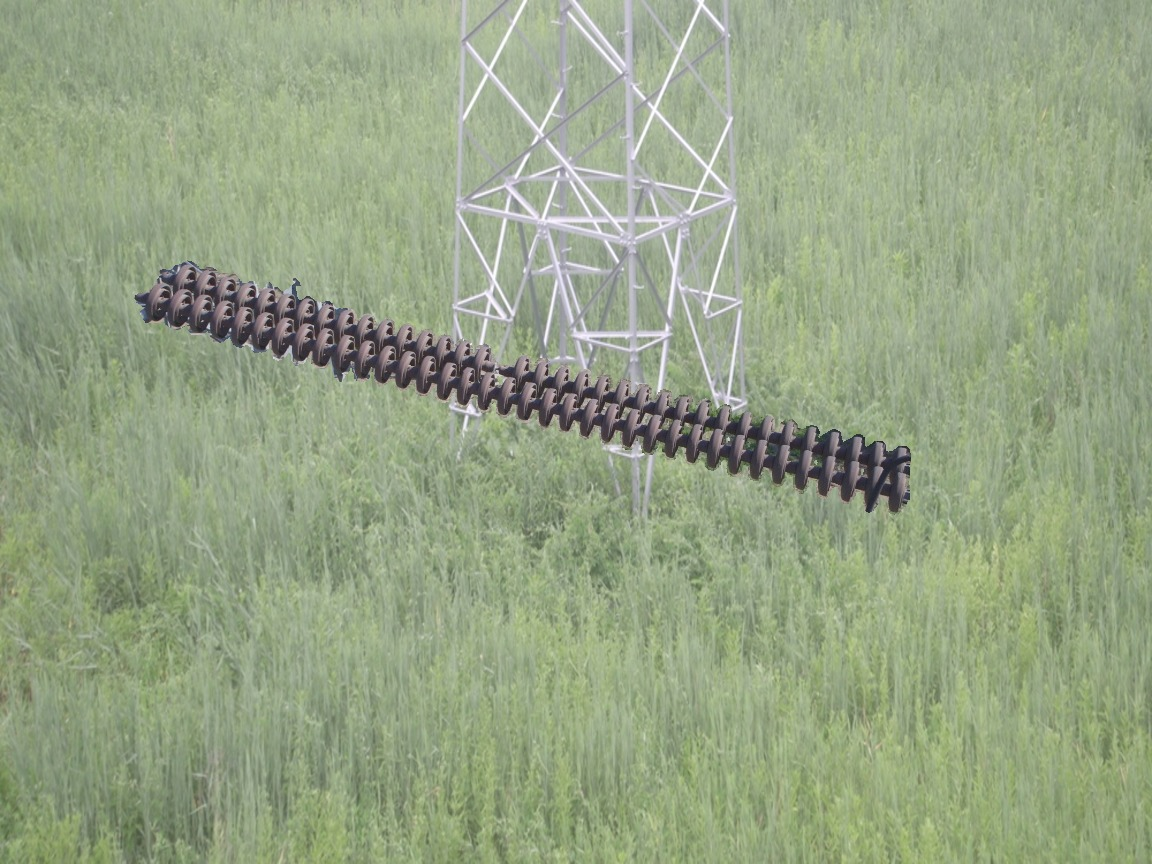defect: (466, 342, 535, 388)
